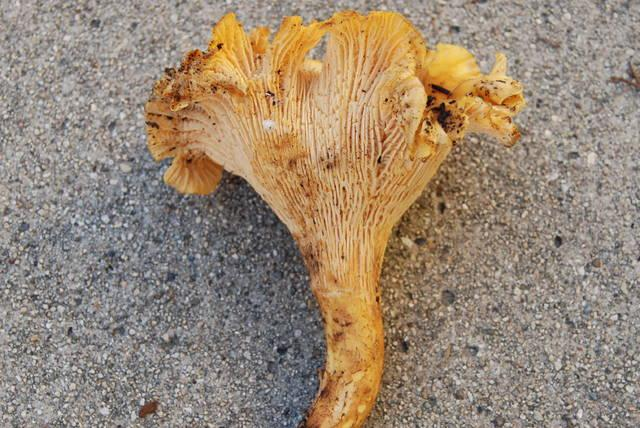Edible Mushroom: (142, 8, 526, 427)
